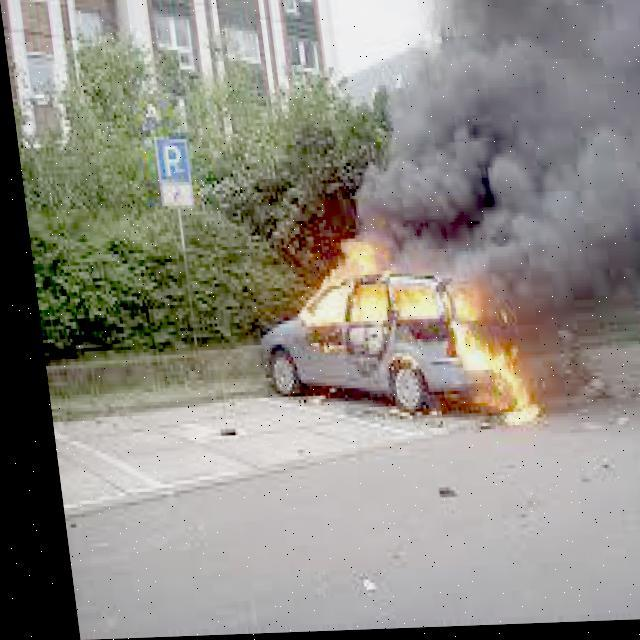Fire: (408, 262, 546, 441), (278, 217, 404, 336)
